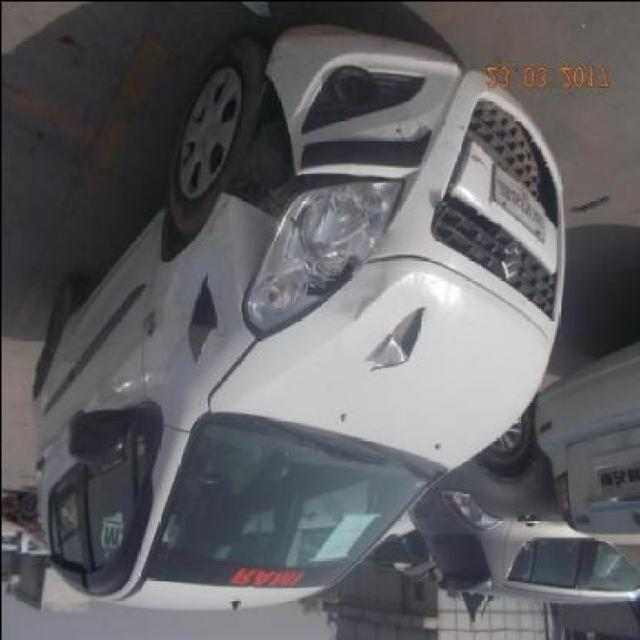damage: (221, 171, 376, 216), (291, 236, 363, 302), (369, 306, 426, 370), (186, 276, 216, 365)
